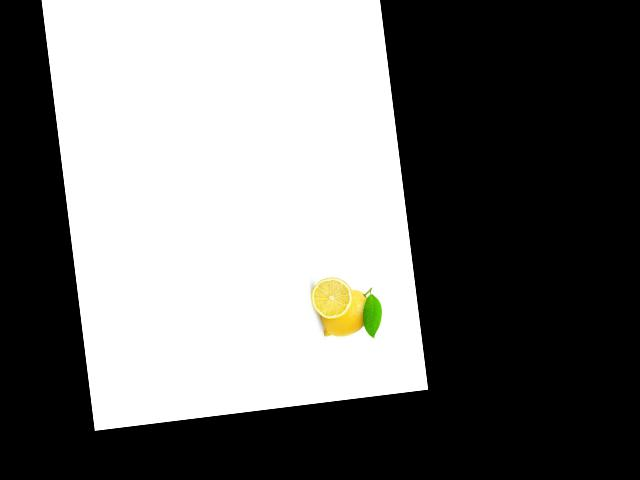lemon: (313, 284, 379, 344)
